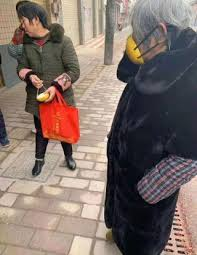masked: (126, 2, 192, 66)
